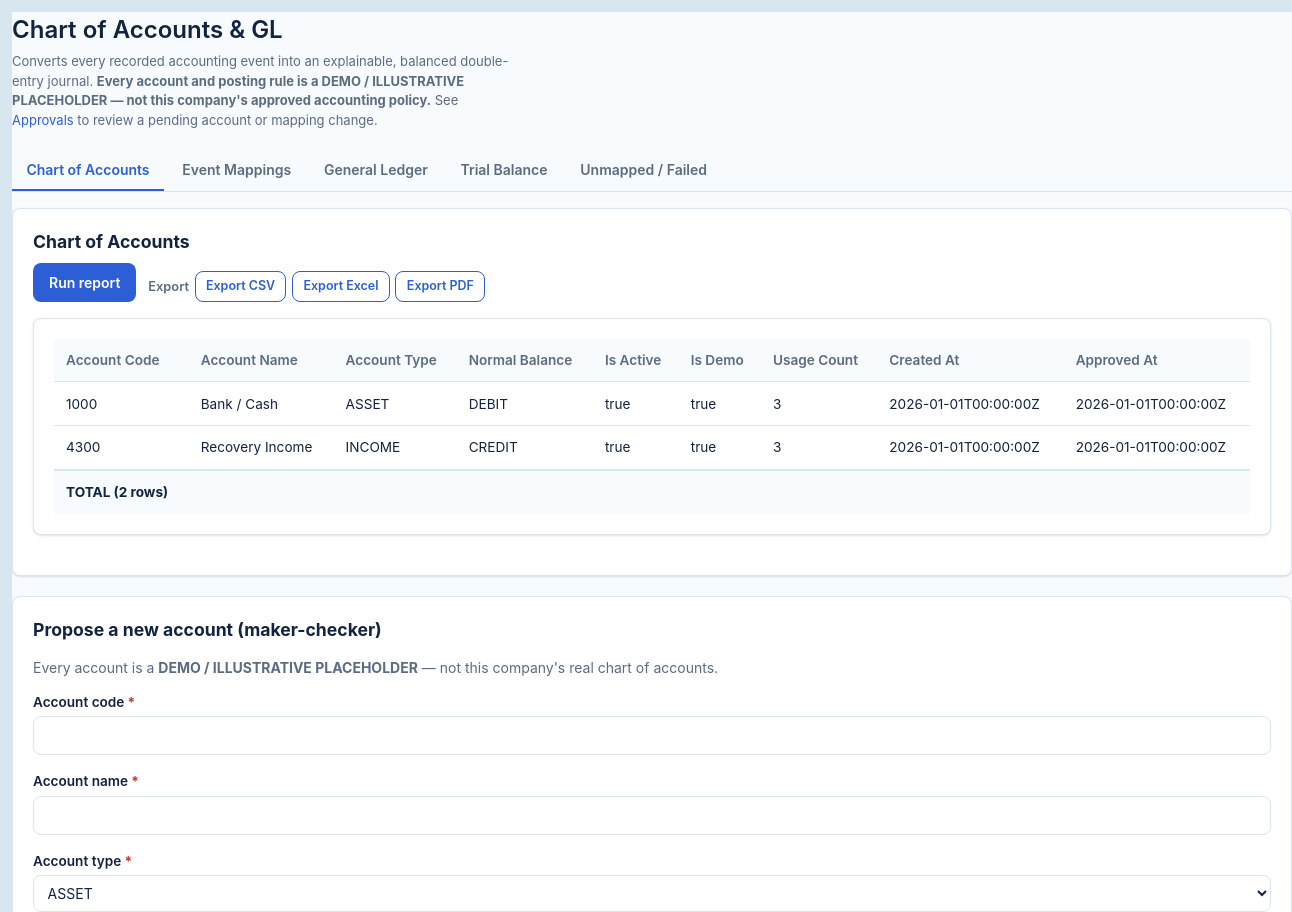
it: Chart of Accounts & GL — Event Mappings tab › switches to the mapping register and shows a SUMMARY_ONLY row
The width and height of the screenshot is (1292, 912).
Click the tab "Event Mappings" at (237, 170), box [168,150,306,191]
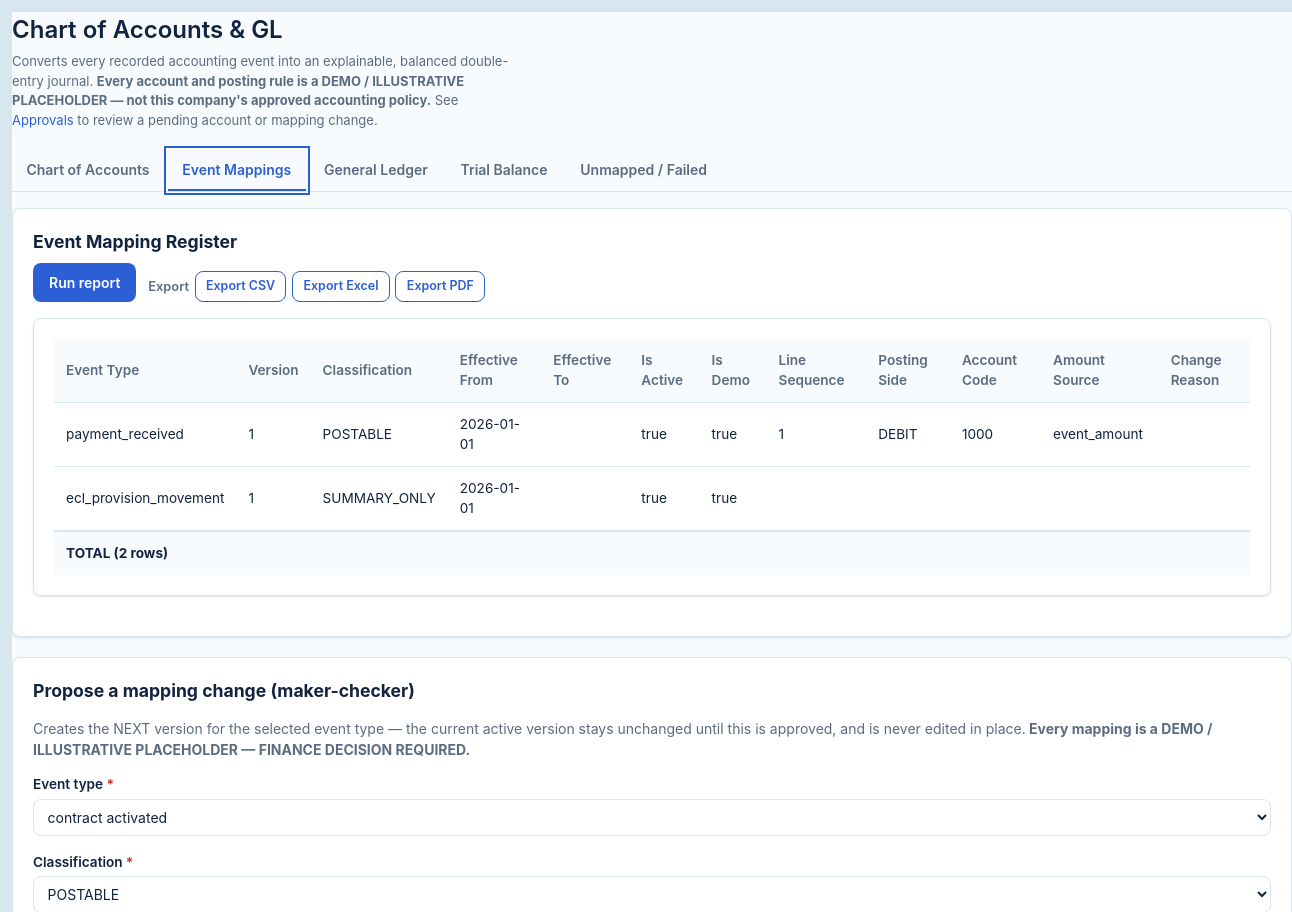
Expected: the text "SUMMARY_ONLY" is shown, [311,466,448,531]
